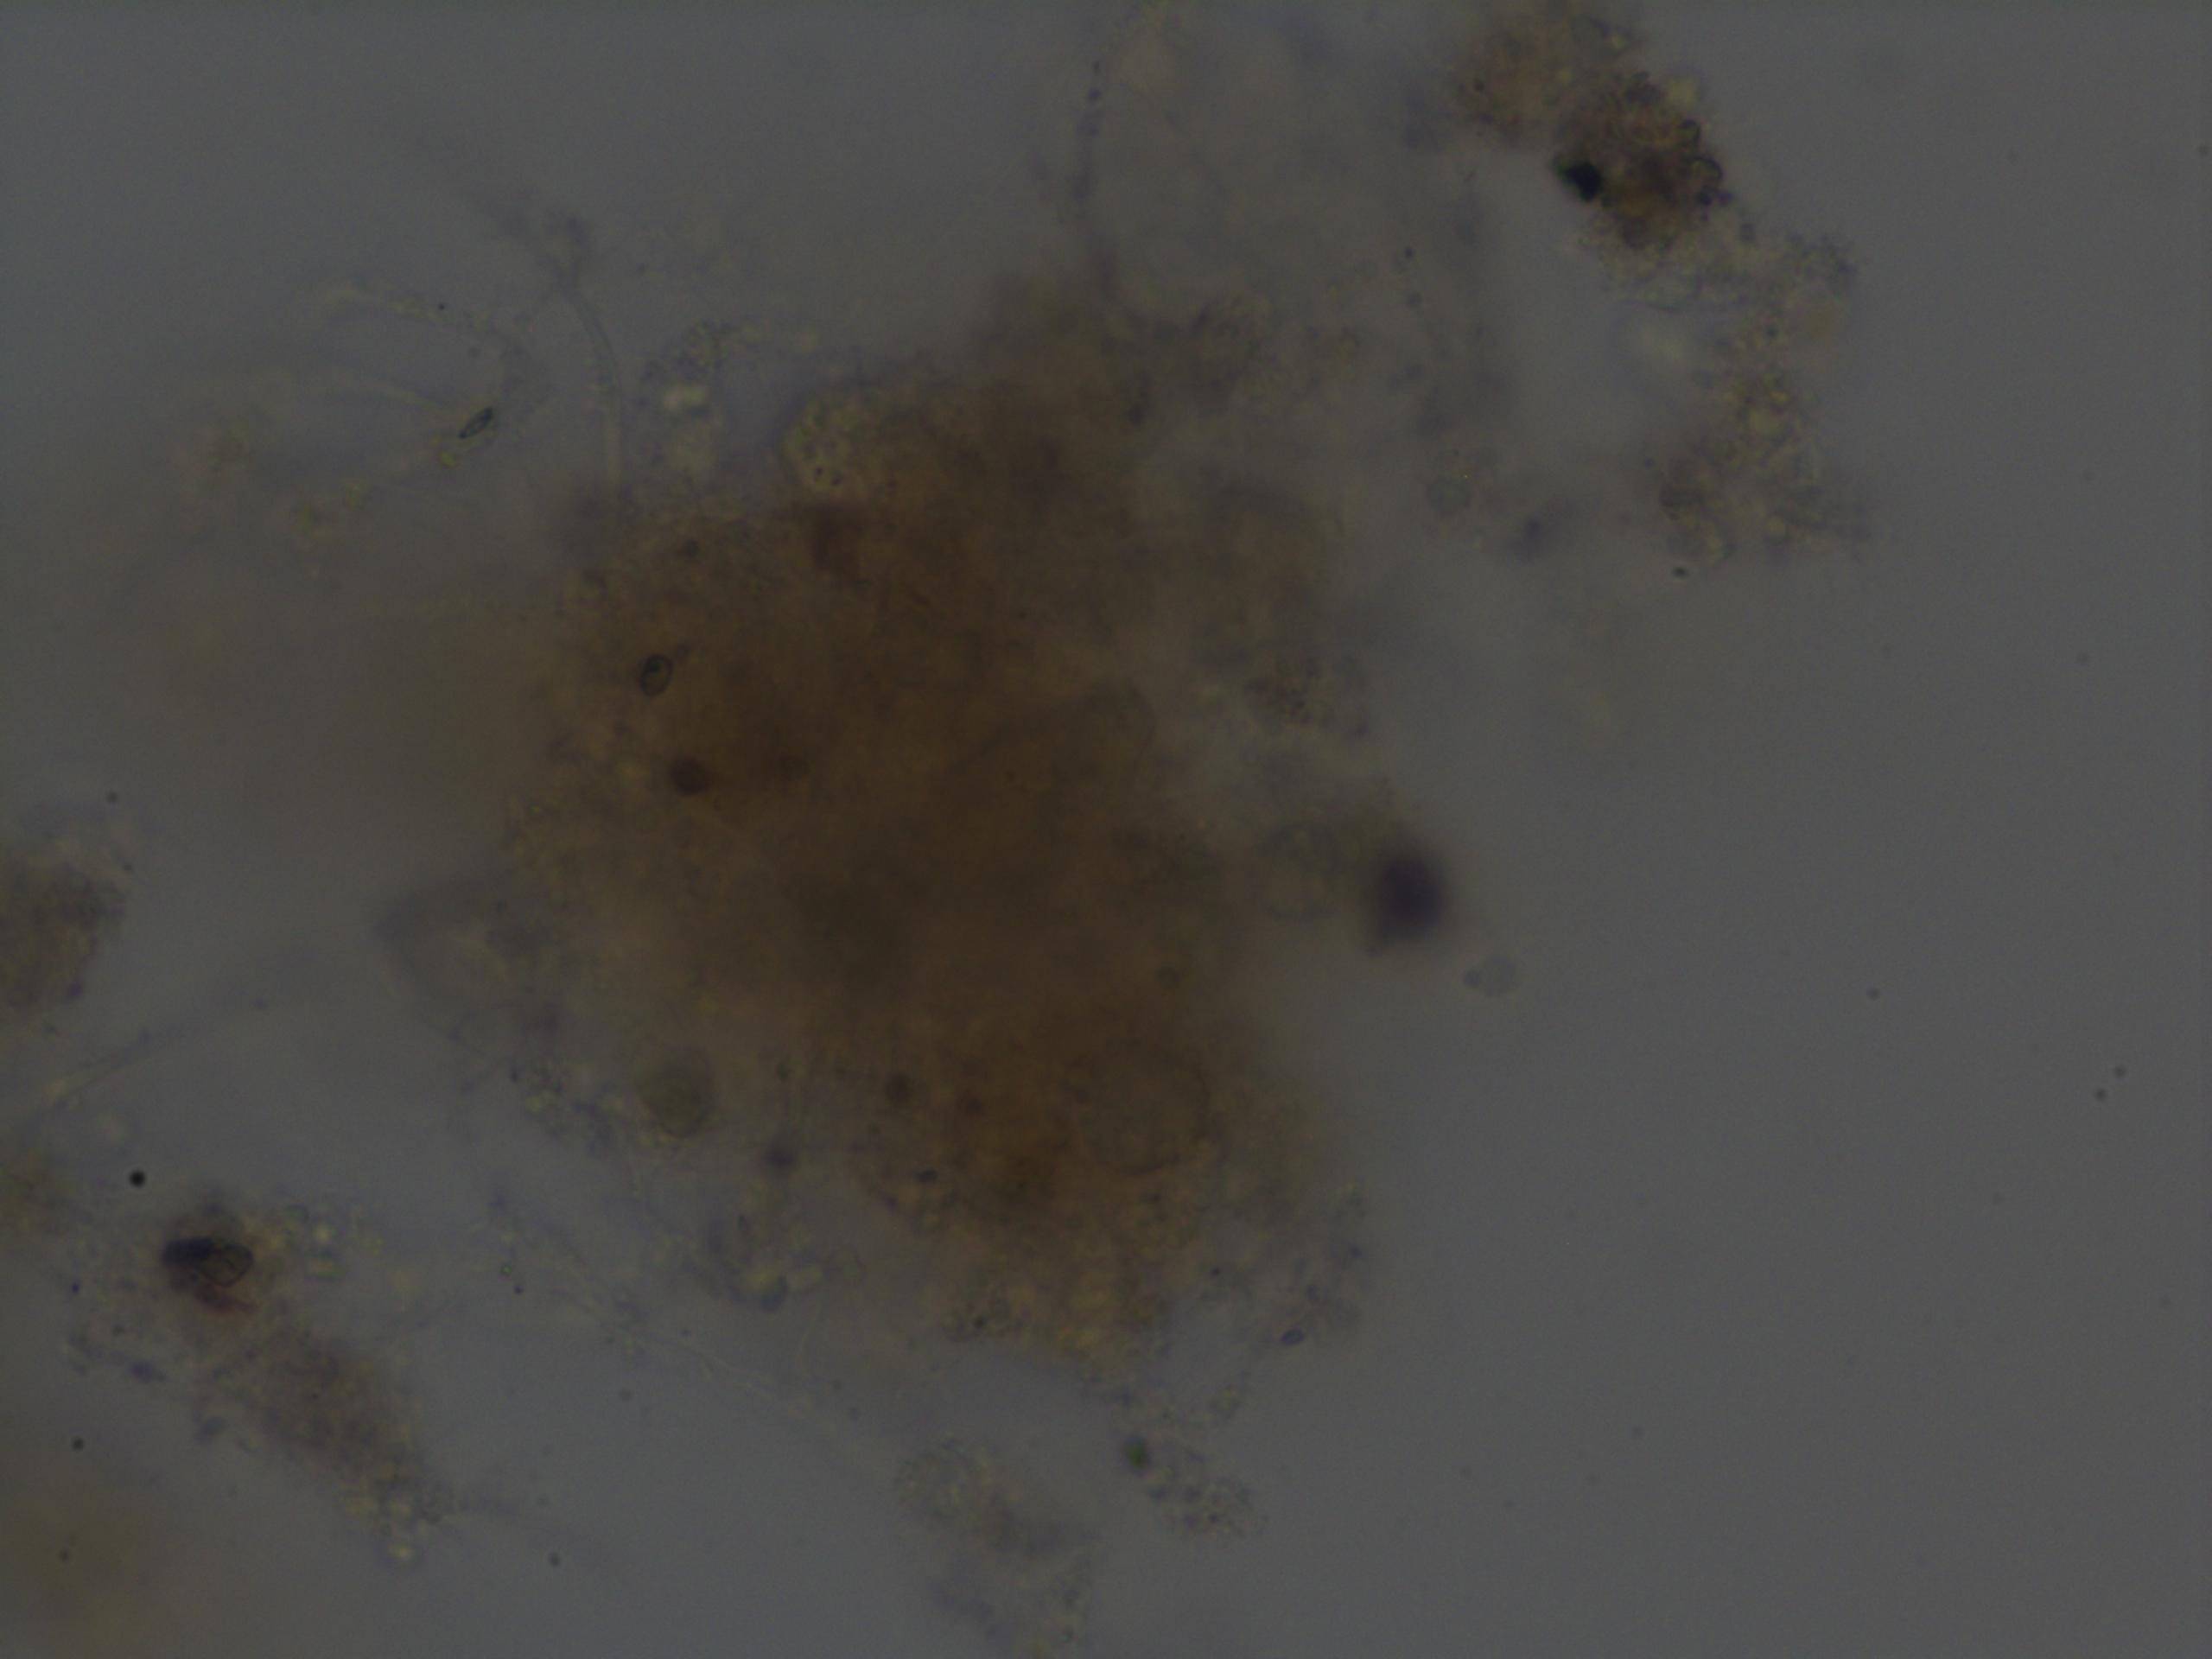filament: (164, 134, 690, 540), (474, 1206, 934, 1553)
